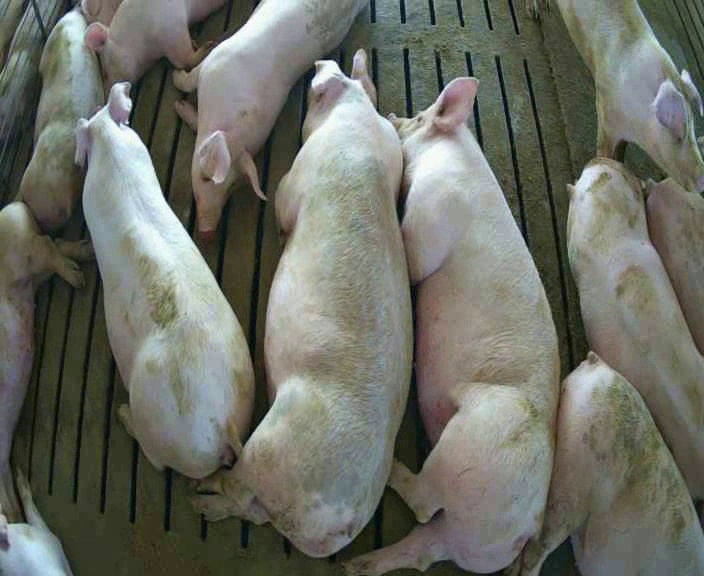pig: (193, 50, 410, 556), (348, 78, 558, 573), (77, 83, 251, 478), (567, 158, 703, 498), (173, 2, 363, 231), (511, 352, 703, 574), (558, 3, 703, 189), (16, 8, 103, 232), (85, 1, 222, 91), (646, 178, 703, 354), (0, 473, 71, 574)
